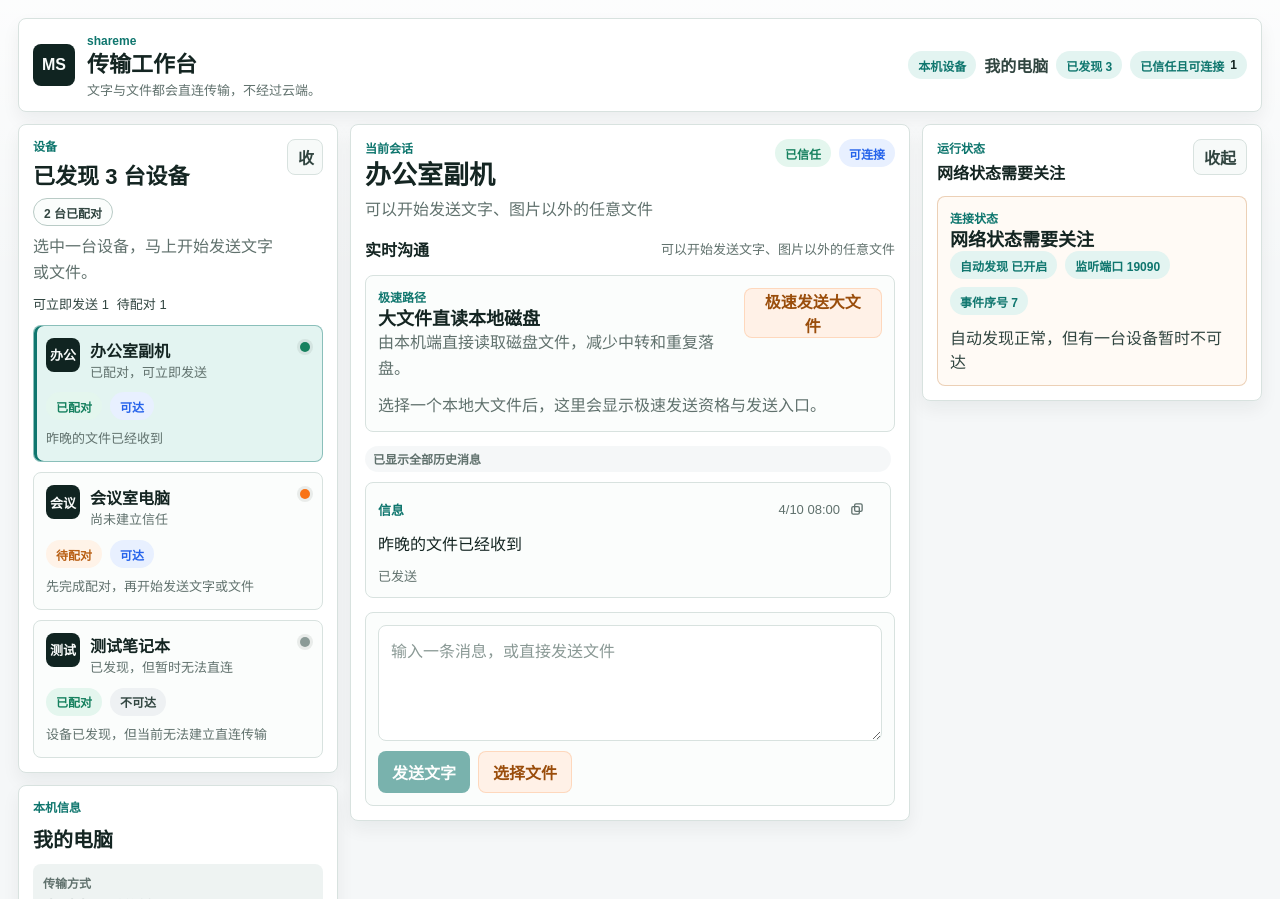
it: App › Wails 文件拖拽路径落在输入框时走桌面路径发送
Check: the text "我的电脑" is shown, box [984,53,1048,77]
Click the button "办公 办公室副机 已配对，可立即发送 已配对 可达 昨晚的文件已经收到": x=63, y=355 [33,325,323,462]
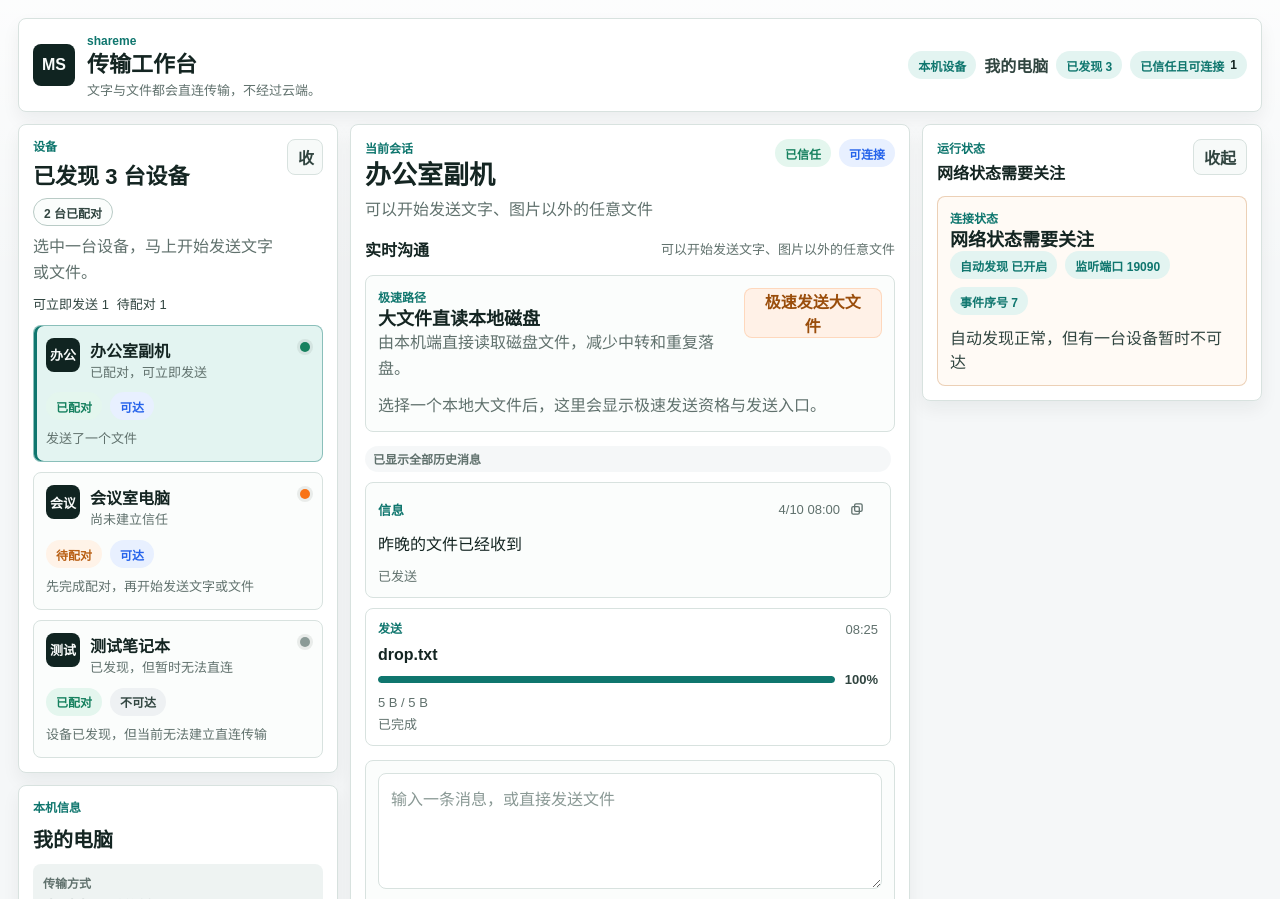
Check: the text "drop.txt" is shown, box [378,646,438,662]
